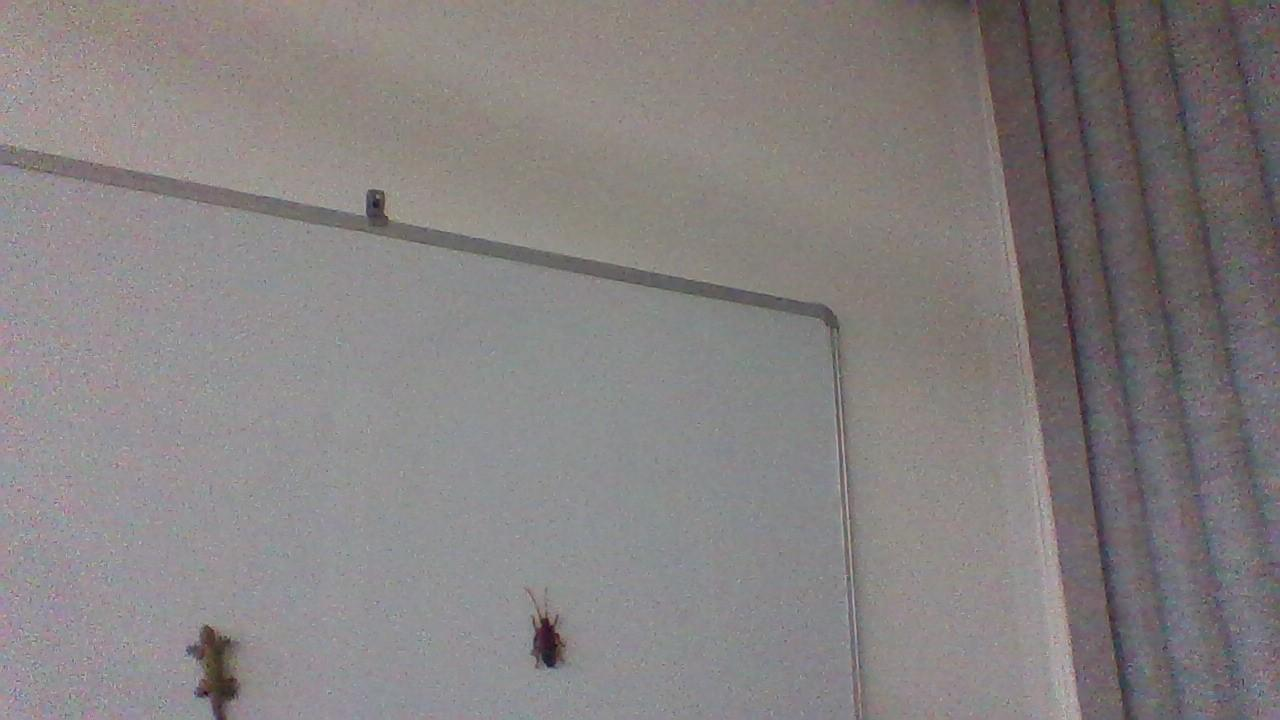cockroach: (517, 570, 576, 681)
lizard: (180, 615, 243, 720)
